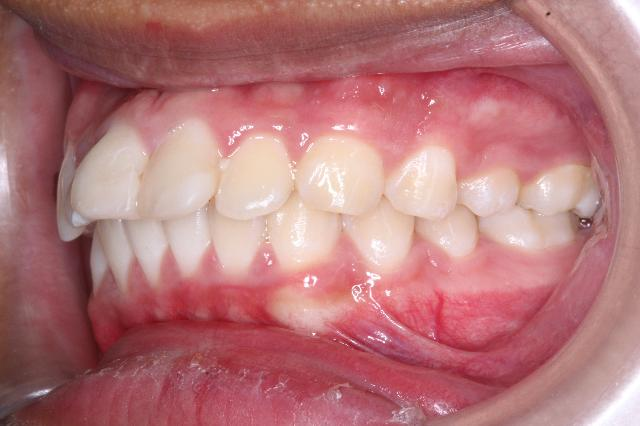canine class I: (264, 127, 418, 279)
molar class III 1/4: (474, 159, 602, 257)
